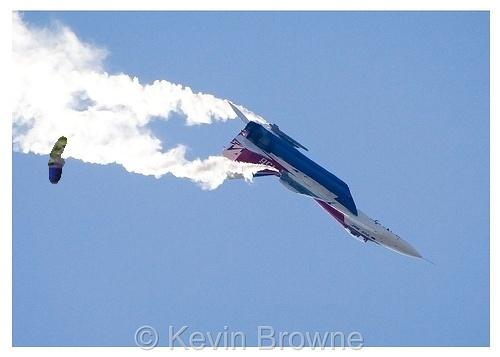tampered: (49, 137, 67, 184)
